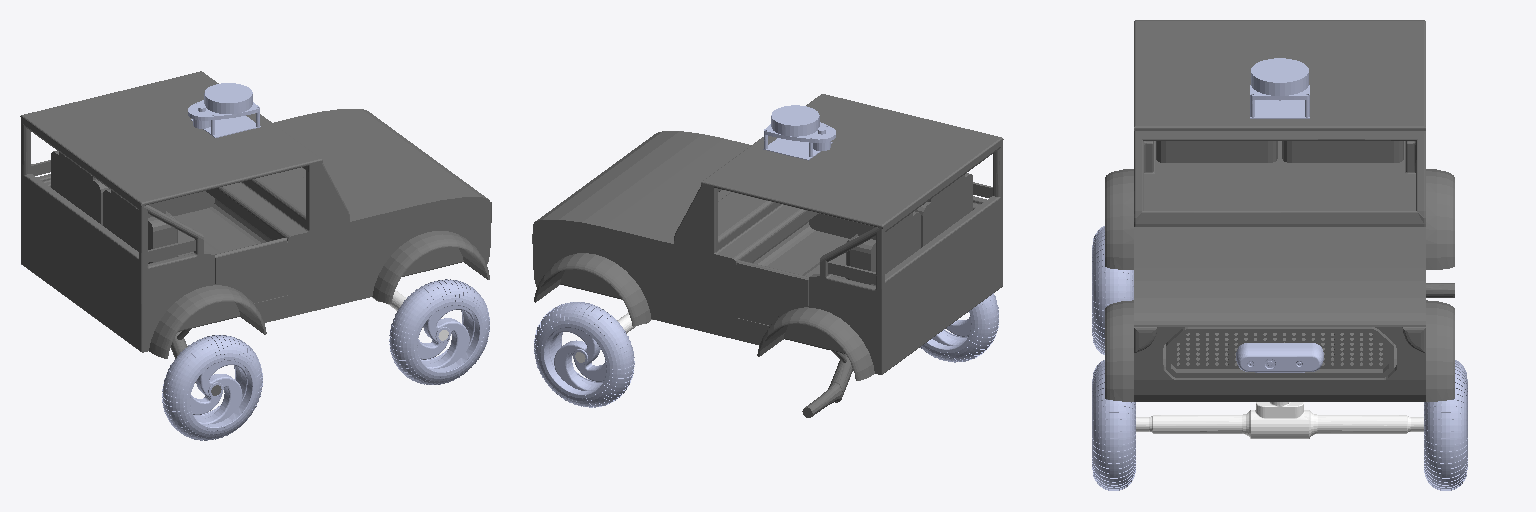
The robot description file, URDF, robot "autonomous_jeep_steering":
<?xml version="1.0" encoding="utf-8"?>
<robot
  name="autonomous_jeep_steering">
  <link
    name="body_link">
    <inertial>
      <origin
        xyz="-0.035128 1.4916E-06 0.062158"
        rpy="0 0 0" />
      <mass
        value="11.149" />
      <inertia
        ixx="0.11472"
        ixy="-3.9016E-06"
        ixz="0.016941"
        iyy="0.27828"
        iyz="-9.5421E-07"
        izz="0.33586" />
    </inertial>
    <visual>
      <origin
        xyz="0 0 0"
        rpy="0 0 0" />
      <geometry>
        <mesh
          filename="package://autonomous_jeep_steering/meshes/body_link.STL" />
      </geometry>
      <material
        name="">
        <color
          rgba="0.50196 0.50196 0.50196 1" />
      </material>
    </visual>
    <collision>
      <origin
        xyz="0 0 0"
        rpy="0 0 0" />
      <geometry>
        <mesh
          filename="package://autonomous_jeep_steering/meshes/body_link.STL" />
      </geometry>
    </collision>
  </link>
  <link
    name="wheel_back_left_link">
    <inertial>
      <origin
        xyz="1.6088E-09 -1.0634E-09 0.0223"
        rpy="0 0 0" />
      <mass
        value="0.33333" />
      <inertia
        ixx="0.00050563"
        ixy="1.2975E-11"
        ixz="9.5616E-13"
        iyy="0.00050563"
        iyz="3.2519E-12"
        izz="0.00094192" />
    </inertial>
    <visual>
      <origin
        xyz="0 0 0"
        rpy="0 0 0" />
      <geometry>
        <mesh
          filename="package://autonomous_jeep_steering/meshes/wheel_back_left_link.STL" />
      </geometry>
      <material
        name="">
        <color
          rgba="0.79216 0.81961 0.93333 1" />
      </material>
    </visual>
    <collision>
      <origin
        xyz="0 0 0"
        rpy="0 0 0" />
      <geometry>
        <mesh
          filename="package://autonomous_jeep_steering/meshes/wheel_back_left_link.STL" />
      </geometry>
    </collision>
  </link>
  <joint
    name="wheel_back_left_joint"
    type="continuous">
    <origin
      xyz="-0.160000000000032 0.148199950400563 -0.0599999999999998"
      rpy="1.5707963267949 0 3.14159265358979" />
    <parent
      link="body_link" />
    <child
      link="wheel_back_left_link" />
    <axis
      xyz="0 0 1" />
  </joint>
  <link
    name="wheel_back_right_link">
    <inertial>
      <origin
        xyz="1.6143E-09 7.9905E-10 -0.0223"
        rpy="0 0 0" />
      <mass
        value="0.33333" />
      <inertia
        ixx="0.00050563"
        ixy="1.2914E-11"
        ixz="9.5334E-13"
        iyy="0.00050563"
        iyz="5.3893E-13"
        izz="0.00094192" />
    </inertial>
    <visual>
      <origin
        xyz="0 0 0"
        rpy="0 0 0" />
      <geometry>
        <mesh
          filename="package://autonomous_jeep_steering/meshes/wheel_back_right_link.STL" />
      </geometry>
      <material
        name="">
        <color
          rgba="0.79216 0.81961 0.93333 1" />
      </material>
    </visual>
    <collision>
      <origin
        xyz="0 0 0"
        rpy="0 0 0" />
      <geometry>
        <mesh
          filename="package://autonomous_jeep_steering/meshes/wheel_back_right_link.STL" />
      </geometry>
    </collision>
  </link>
  <joint
    name="wheel_back_right_joint"
    type="continuous">
    <origin
      xyz="-0.160000000000032 -0.148199950400563 -0.0599999999999997"
      rpy="1.5707963267949 0 3.14159265358979" />
    <parent
      link="body_link" />
    <child
      link="wheel_back_right_link" />
    <axis
      xyz="0 0 1" />
  </joint>
  <link
    name="steering_rod_link">
    <inertial>
      <origin
        xyz="6.116E-09 6.8138E-13 -0.054842"
        rpy="0 0 0" />
      <mass
        value="0.14775" />
      <inertia
        ixx="0.00093641"
        ixy="1.0343E-12"
        ixz="-1.4968E-11"
        iyy="3.6437E-05"
        iyz="-1.9748E-15"
        izz="0.00090994" />
    </inertial>
    <visual>
      <origin
        xyz="0 0 0"
        rpy="0 0 0" />
      <geometry>
        <mesh
          filename="package://autonomous_jeep_steering/meshes/steering_rod_link.STL" />
      </geometry>
      <material
        name="">
        <color
          rgba="1 1 1 1" />
      </material>
    </visual>
    <collision>
      <origin
        xyz="0 0 0"
        rpy="0 0 0" />
      <geometry>
        <mesh
          filename="package://autonomous_jeep_steering/meshes/steering_rod_link.STL" />
      </geometry>
    </collision>
  </link>
  <joint
    name="steering_rod_joint"
    type="revolute">
    <origin
      xyz="0.165358983848622 0 0"
      rpy="0 0 0" />
    <parent
      link="body_link" />
    <child
      link="steering_rod_link" />
    <axis
      xyz="0 0 1" />
    <limit
      lower="0"
      upper="0"
      effort="0"
      velocity="0" />
  </joint>
  <link
    name="wheel_front_left_link">
    <inertial>
      <origin
        xyz="1.9577E-10 -1.352E-10 0.0223"
        rpy="0 0 0" />
      <mass
        value="0.33333" />
      <inertia
        ixx="0.00050563"
        ixy="4.4161E-12"
        ixz="-5.8256E-12"
        iyy="0.00050563"
        iyz="1.8909E-12"
        izz="0.00094192" />
    </inertial>
    <visual>
      <origin
        xyz="0 0 0"
        rpy="0 0 0" />
      <geometry>
        <mesh
          filename="package://autonomous_jeep_steering/meshes/wheel_front_left_link.STL" />
      </geometry>
      <material
        name="">
        <color
          rgba="0.79216 0.81961 0.93333 1" />
      </material>
    </visual>
    <collision>
      <origin
        xyz="0 0 0"
        rpy="0 0 0" />
      <geometry>
        <mesh
          filename="package://autonomous_jeep_steering/meshes/wheel_front_left_link.STL" />
      </geometry>
    </collision>
  </link>
  <joint
    name="wheel_front_left_joint"
    type="continuous">
    <origin
      xyz="0 0.148199950400563 -0.06"
      rpy="1.5707963267949 0 3.14159265358979" />
    <parent
      link="steering_rod_link" />
    <child
      link="wheel_front_left_link" />
    <axis
      xyz="0 0 1" />
  </joint>
  <link
    name="wheel_front_right_link">
    <inertial>
      <origin
        xyz="1.9577E-10 -1.352E-10 -0.0223"
        rpy="0 0 0" />
      <mass
        value="0.33333" />
      <inertia
        ixx="0.00050563"
        ixy="4.4161E-12"
        ixz="-5.8256E-12"
        iyy="0.00050563"
        iyz="1.8909E-12"
        izz="0.00094192" />
    </inertial>
    <visual>
      <origin
        xyz="0 0 0"
        rpy="0 0 0" />
      <geometry>
        <mesh
          filename="package://autonomous_jeep_steering/meshes/wheel_front_right_link.STL" />
      </geometry>
      <material
        name="">
        <color
          rgba="0.79216 0.81961 0.93333 1" />
      </material>
    </visual>
    <collision>
      <origin
        xyz="0 0 0"
        rpy="0 0 0" />
      <geometry>
        <mesh
          filename="package://autonomous_jeep_steering/meshes/wheel_front_right_link.STL" />
      </geometry>
    </collision>
  </link>
  <joint
    name="wheel_front_right_joint"
    type="continuous">
    <origin
      xyz="0 -0.148199950400563 -0.06"
      rpy="1.5707963267949 0 3.14159265358979" />
    <parent
      link="steering_rod_link" />
    <child
      link="wheel_front_right_link" />
    <axis
      xyz="0 0 1" />
  </joint>
  <link
    name="lidar_link">
    <inertial>
      <origin
        xyz="-0.0056602 1.3942E-17 -0.014137"
        rpy="0 0 0" />
      <mass
        value="0.07569" />
      <inertia
        ixx="2.4516E-05"
        ixy="1.1835E-18"
        ixz="-4.0042E-06"
        iyy="3.8897E-05"
        iyz="-2.6015E-20"
        izz="4.8804E-05" />
    </inertial>
    <visual>
      <origin
        xyz="0 0 0"
        rpy="0 0 0" />
      <geometry>
        <mesh
          filename="package://autonomous_jeep_steering/meshes/lidar_link.STL" />
      </geometry>
      <material
        name="">
        <color
          rgba="0.79216 0.81961 0.93333 1" />
      </material>
    </visual>
    <collision>
      <origin
        xyz="0 0 0"
        rpy="0 0 0" />
      <geometry>
        <mesh
          filename="package://autonomous_jeep_steering/meshes/lidar_link.STL" />
      </geometry>
    </collision>
  </link>
  <joint
    name="lidar_joint"
    type="fixed">
    <origin
      xyz="-0.0387096605896324 0 0.246"
      rpy="0 0 0" />
    <parent
      link="body_link" />
    <child
      link="lidar_link" />
    <axis
      xyz="0 0 0" />
  </joint>
  <link
    name="camera_link">
    <inertial>
      <origin
        xyz="-0.013289 -0.0015286 -0.00034738"
        rpy="0 0 0" />
      <mass
        value="0.050614" />
      <inertia
        ixx="3.2307E-05"
        ixy="-1.6999E-08"
        ixz="-1.18E-07"
        iyy="4.9925E-06"
        iyz="-4.8942E-10"
        izz="3.2267E-05" />
    </inertial>
    <visual>
      <origin
        xyz="0 0 0"
        rpy="0 0 0" />
      <geometry>
        <mesh
          filename="package://autonomous_jeep_steering/meshes/camera_link.STL" />
      </geometry>
      <material
        name="">
        <color
          rgba="0.79216 0.81961 0.93333 1" />
      </material>
    </visual>
    <collision>
      <origin
        xyz="0 0 0"
        rpy="0 0 0" />
      <geometry>
        <mesh
          filename="package://autonomous_jeep_steering/meshes/camera_link.STL" />
      </geometry>
    </collision>
  </link>
  <joint
    name="camera_joint"
    type="fixed">
    <origin
      xyz="0.265 0.00155480626291431 0.0550000564834226"
      rpy="0 0 0" />
    <parent
      link="body_link" />
    <child
      link="camera_link" />
    <axis
      xyz="0 0 0" />
  </joint>


   <!-- camera -->
  <gazebo reference="camera_link">
    <sensor type="camera" name="camera_sensor">
      <update_rate>30.0</update_rate>
      <camera name="head">
        <horizontal_fov>1.3962634</horizontal_fov>
        <image>
          <width>800</width>
          <height>800</height>
          <format>R8G8B8</format>
        </image>
        <clip>
          <near>0.02</near>
          <far>3000</far>
        </clip>
        <noise>
          <type>gaussian</type>
          <!-- Noise is sampled independently per pixel on each frame.
               That pixel's noise value is added to each of its color
               channels, which at that point lie in the range [0,1]. -->
          <mean>0.0</mean>
          <stddev>0.007</stddev>
        </noise>
      </camera>
      <plugin name="camera_controller" filename="libgazebo_ros_camera.so">
        <alwaysOn>true</alwaysOn>
        <updateRate>0.0</updateRate>
        <cameraName>jeep/camera_sensor</cameraName>
        <imageTopicName>image_raw</imageTopicName>
        <cameraInfoTopicName>camera_info</cameraInfoTopicName>
        <frameName>camera_link</frameName>
        <hackBaseline>0.07</hackBaseline>
        <distortionK1>0.0</distortionK1>
        <distortionK2>0.0</distortionK2>
        <distortionK3>0.0</distortionK3>
        <distortionT1>0.0</distortionT1>
        <distortionT2>0.0</distortionT2>
      </plugin>
    </sensor>
  </gazebo>

   <!-- laserscan -->
  <gazebo reference="lidar_link">
   <sensor name="laserscan" type="ray">
   <!-- Sensor ray -->
   
      <pose>0 0 0 0 0 0</pose>
      <visualize>true</visualize>
      <update_rate>100</update_rate>
      <ray>
        <scan>
          <horizontal>
            <samples>18000</samples>
            <resolution>0.1</resolution>
            <min_angle>-1.57</min_angle>
            <max_angle>1.57</max_angle>
          </horizontal>
        </scan>
        <range>
          <min>0.10</min>
          <max>6</max>
          <resolution>0.01</resolution>
        </range>
        <noise>
          <type>gaussian</type>
          <!-- Noise parameters based on published spec for Hokuyo laser
               achieving "+-30mm" accuracy at range < 10m.  A mean of 0.0m and
               stddev of 0.01m will put 99.7% of samples within 0.03m of the true
               reading. -->
          <mean>0.0</mean>
          <stddev>0.01</stddev>
        </noise>
      </ray>
      <plugin name="laserScanner" filename="libgazebo_ros_laser.so">
        <topicName>/jeep/laser/scan</topicName>
        <frameName>lidar_link</frameName>
      </plugin>
    </sensor>
  </gazebo>

  <!-- <gazebo reference="lidar_link">
  <visual>
    <plugin name="display_camera" filename="libgazebo_ros_video.so">
      <topicName>/jeep/camera_sensor/image_raw</topicName>
      <height>120</height>
      <width>160</width>
    </plugin>
  </visual>
</gazebo> -->




<gazebo>
  <plugin name="differential_drive_controller" filename="libgazebo_ros_diff_drive.so">
  <updateRate>100</updateRate>

  <leftJoint>wheel_front_left_joint</leftJoint>
  <rightJoint>wheel_front_right_joint</rightJoint>
  <wheelAcceleration>100</wheelAcceleration>
  <commandTopic>telop_input_cmd</commandTopic>
  <wheelTorque>10</wheelTorque>
  <publishWheelJointState>true</publishWheelJointState>
  <wheelDiameter>150</wheelDiameter>
  <wheelSeparation>300</wheelSeparation>
  
  <legacyMode>false</legacyMode>
  <odometryTopic>odom</odometryTopic>
  <robotBaseFrame>base_footprint</robotBaseFrame>
  <odometryFrame>odom</odometryFrame>
  <odometrySource>1</odometrySource>
  <publishWheelTF>true</publishWheelTF>
  <publishOdom>true</publishOdom>
  <publishWheelTF>na</publishWheelTF>
  <rosDebugLevel>na</rosDebugLevel>

  </plugin>
</gazebo>

<gazebo>
  <plugin name="differential_drive_controller" filename="libgazebo_ros_diff_drive.so">
  <updateRate>100</updateRate>

  <leftJoint>wheel_back_left_joint</leftJoint>
  <rightJoint>wheel_back_right_joint</rightJoint>
  <wheelAcceleration>100</wheelAcceleration>
  <commandTopic>telop_input_cmd</commandTopic>
  <wheelTorque>10</wheelTorque>
  <publishWheelJointState>true</publishWheelJointState>
  <wheelDiameter>150</wheelDiameter>
  <wheelSeparation>300</wheelSeparation>
  
  <legacyMode>false</legacyMode>
  <odometryTopic>odom</odometryTopic>
  <robotBaseFrame>base_footprint</robotBaseFrame>
  <odometryFrame>odom</odometryFrame>
  <odometrySource>1</odometrySource>
  <publishWheelTF>true</publishWheelTF>
  <publishOdom>true</publishOdom>
  <publishWheelTF>na</publishWheelTF>
  <rosDebugLevel>na</rosDebugLevel>
  
  
  </plugin>
</gazebo>




  
</robot>

--- Facts derived from the render (not from the file) ---
3 views of the same robot in one strip: view 1: azimuth 30°, elevation 25°; view 2: azimuth 150°, elevation 25°; view 3: azimuth 270°, elevation 25° (orthographic).
Robot: autonomous_jeep_steering — 8 links, 7 joints (1 revolute, 4 continuous, 2 fixed); root link body_link; default pose: all joints at 0.
Links seen in each view (by area): view 1: body_link, wheel_back_right_link, wheel_front_right_link, lidar_link; view 2: body_link, wheel_front_left_link, lidar_link, wheel_back_right_link; view 3: body_link, steering_rod_link, wheel_front_left_link, wheel_front_right_link, lidar_link, wheel_back_right_link, camera_link.
Link boxes in pixels (x1,y1,x2,y2): body_link: (20, 71, 491, 395); wheel_back_right_link: (162, 335, 262, 440); wheel_front_right_link: (389, 279, 489, 384); lidar_link: (188, 83, 260, 137); body_link: (532, 94, 1003, 417); wheel_front_left_link: (534, 302, 634, 407); lidar_link: (763, 105, 835, 160); wheel_back_right_link: (920, 293, 998, 362); body_link: (1105, 20, 1454, 401); steering_rod_link: (1136, 402, 1423, 438); wheel_front_left_link: (1424, 360, 1467, 490); wheel_front_right_link: (1092, 360, 1135, 490); lidar_link: (1250, 58, 1309, 118); wheel_back_right_link: (1092, 226, 1133, 354); camera_link: (1236, 343, 1323, 372).
Bounding box of the posed robot: 0.515 × 0.3855 × 0.375 m (x, y, z).
7 mesh visuals loaded from 8 distinct referenced files (7 binary STL); not drawn: 1 (reference not matched to a file when rendering).
